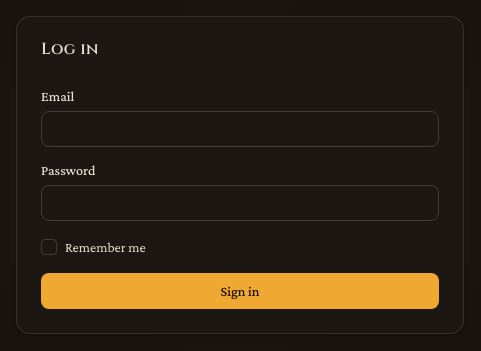
Test: Login page › disables submit button during request
In the field labelled "Email": (240, 129) [41,111,439,147], type "test@test.com"
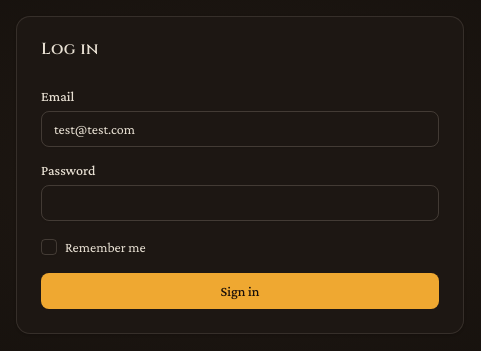
In the password field labelled "Password": (240, 203) [41,185,439,221], type "pass"
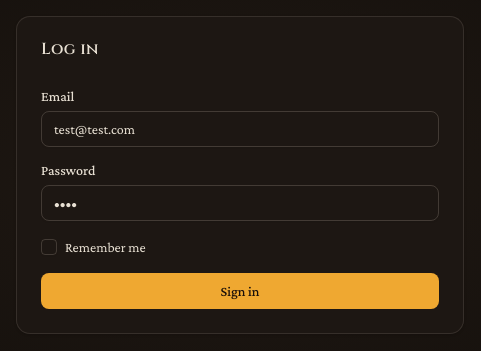
Click the button "Sign in": (240, 291) [41,273,439,309]
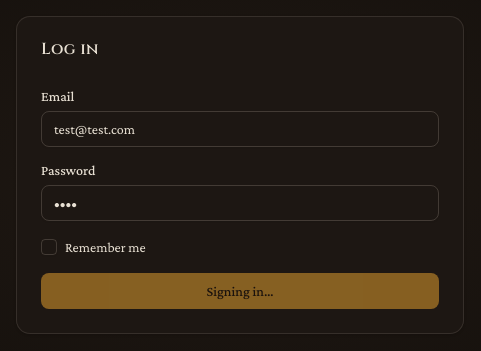
Expected: the button "Signing in…" is disabled, [41,273,439,309]
